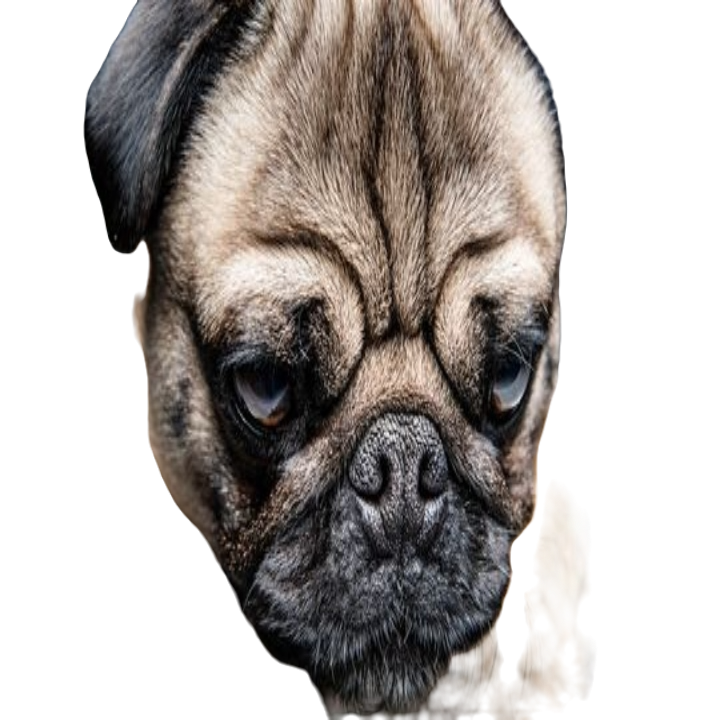Dog: (78, 0, 570, 719)
